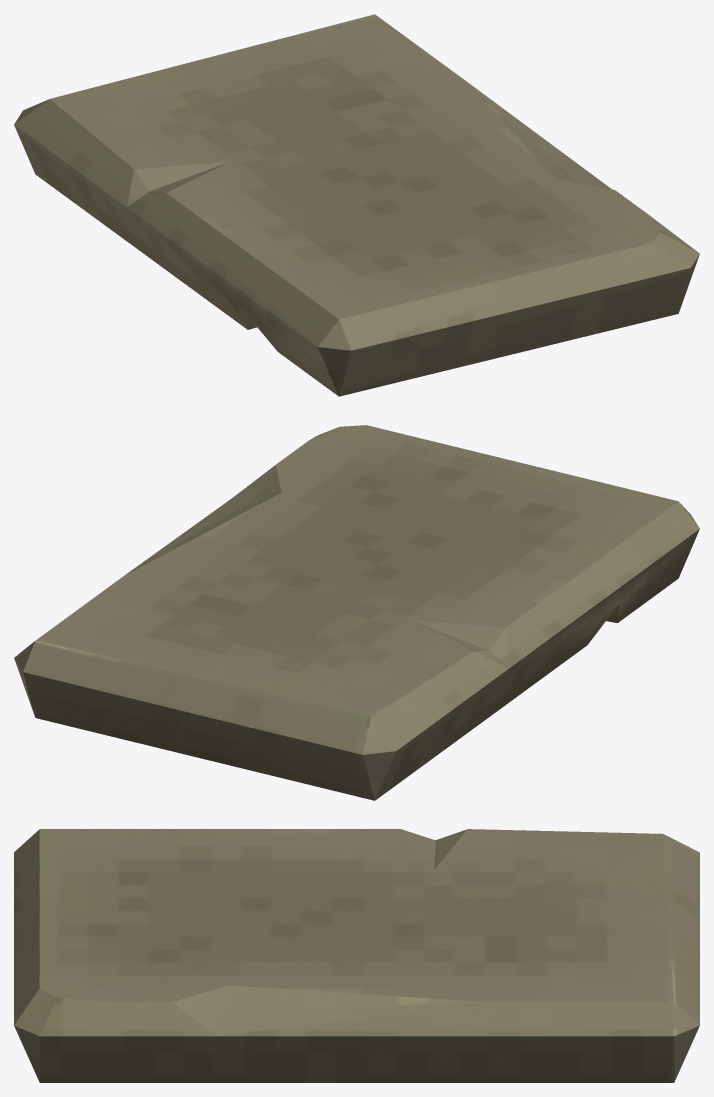
Rendered from Tile_3.fbx.
The picture shows the model from 3 angles, top to bottom: view 1: azimuth 30°, elevation 25°; view 2: azimuth 150°, elevation 25°; view 3: azimuth 270°, elevation 25°; orthographic projection. The views are drawn at different scales.
Visible parts, largest first — view 1: Tile_3; view 2: Tile_3; view 3: Tile_3.
Part boxes in pixels (x1=…): Tile_3: x1=14, y1=14, x2=699, y2=396; Tile_3: x1=14, y1=425, x2=699, y2=800; Tile_3: x1=14, y1=829, x2=699, y2=1082.
Size of the model in its own units: 231 by 44.67 by 344.
